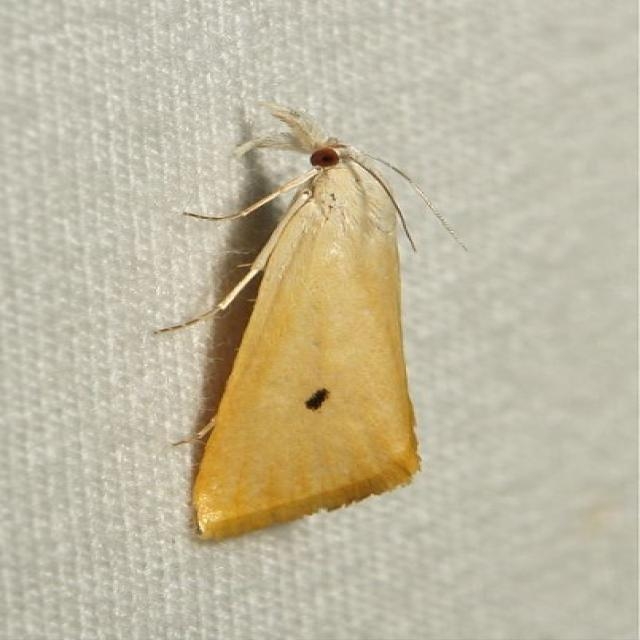rice stem borer -penggerek batang padi-: (151, 102, 468, 540)
